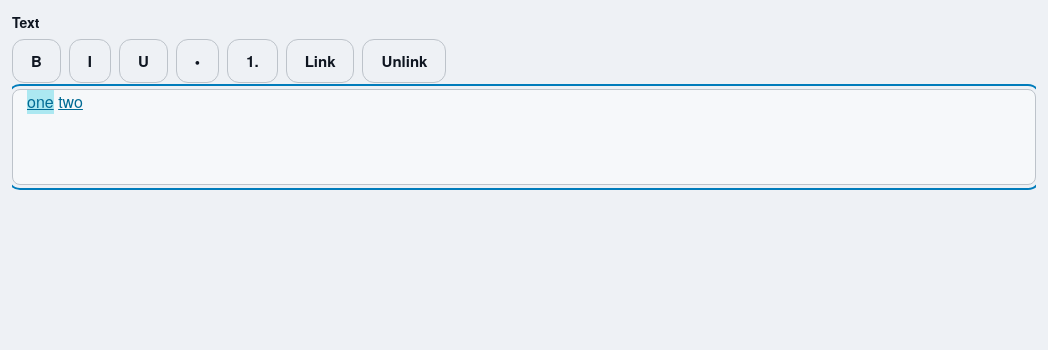
it: the UTM opt-out of a link › is unticked on the next link after a dialog is closed without applying
The width and height of the screenshot is (1048, 350).
Click the button with aria-label "Add a link" at (320, 61), box [286,39,354,83]
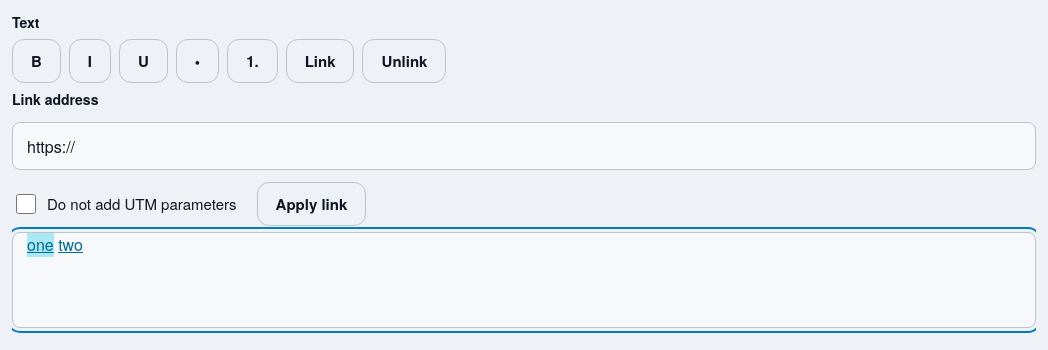
Click the checkbox labelled "Do not add UTM parameters" at (26, 204), box [16,194,36,214]
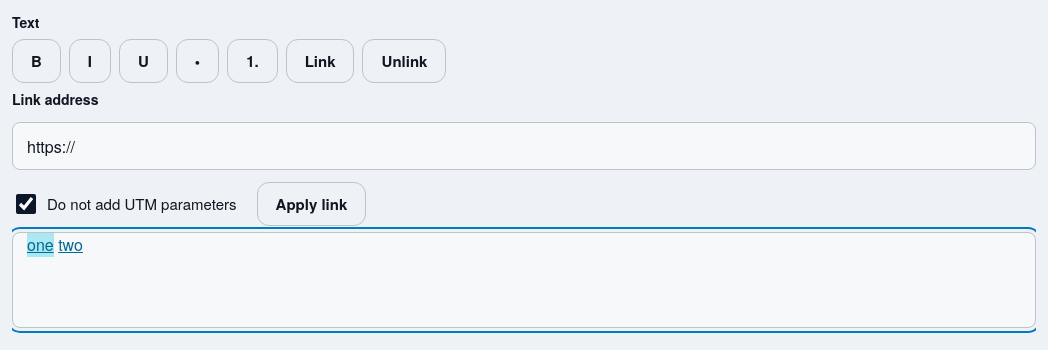
Check: the checkbox labelled "Do not add UTM parameters" is checked, box [16,194,36,214]
Click the button with aria-label "Add a link" at (320, 61), box [286,39,354,83]
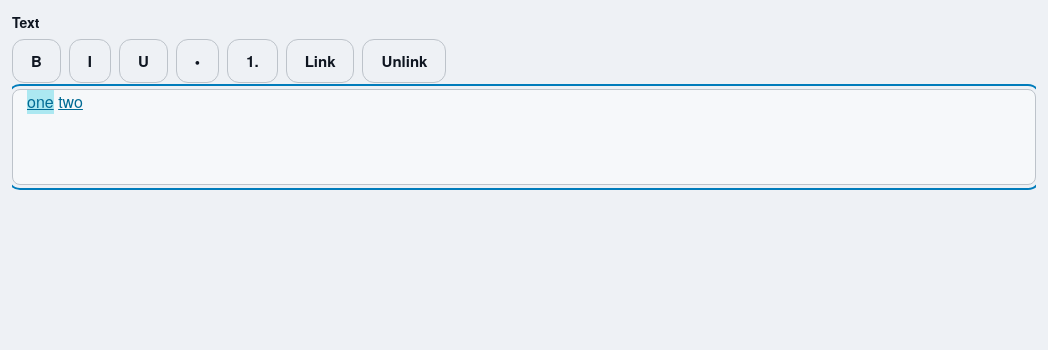
Check: the text "Do not add UTM parameters" is gone
Click the button with aria-label "Add a link" at (320, 61), box [286,39,354,83]
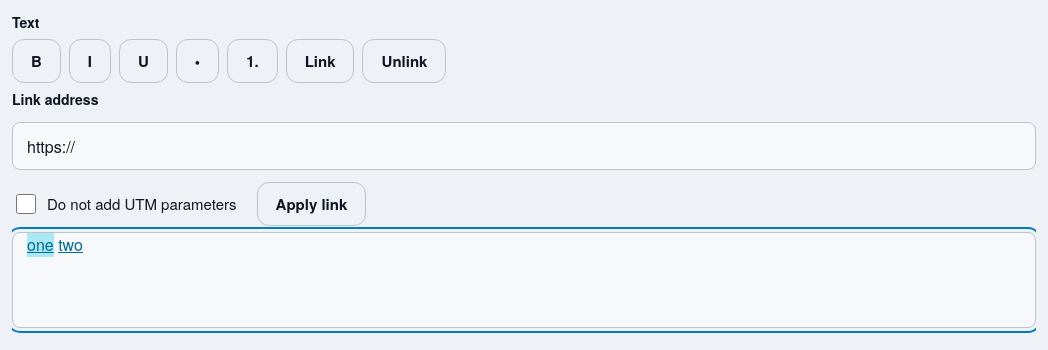
Check: the checkbox labelled "Do not add UTM parameters" is not checked, box [16,194,36,214]
Click the button with aria-label "Add a link" at (320, 61), box [286,39,354,83]
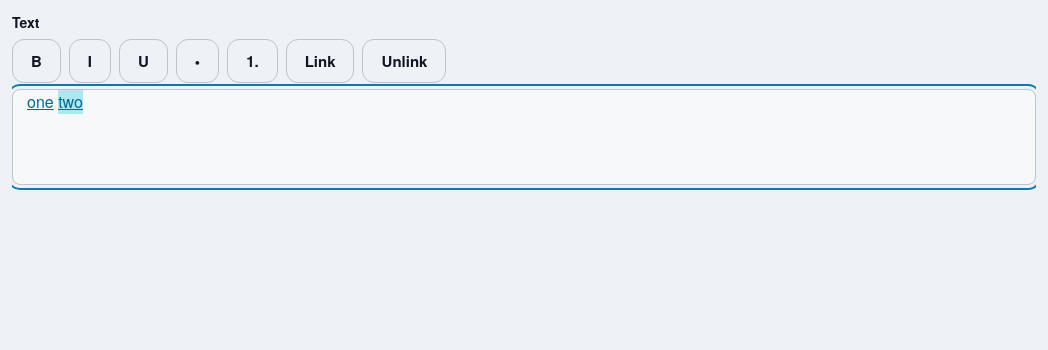
Click the button with aria-label "Add a link" at (320, 61), box [286,39,354,83]
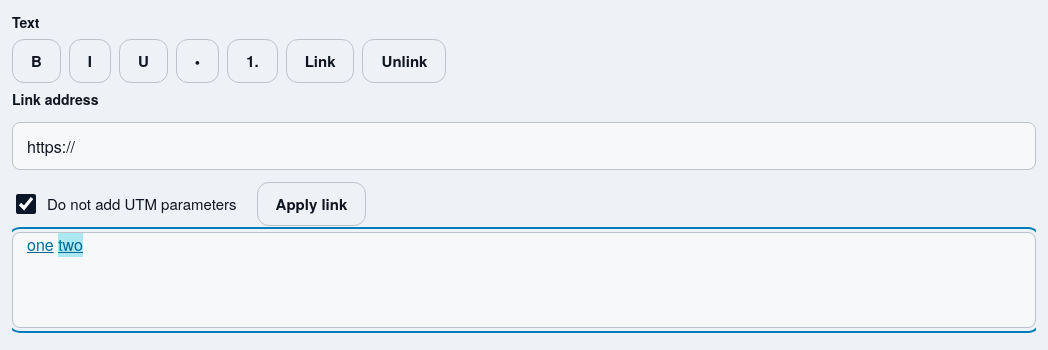
Check: the checkbox labelled "Do not add UTM parameters" is checked, box [16,194,36,214]
